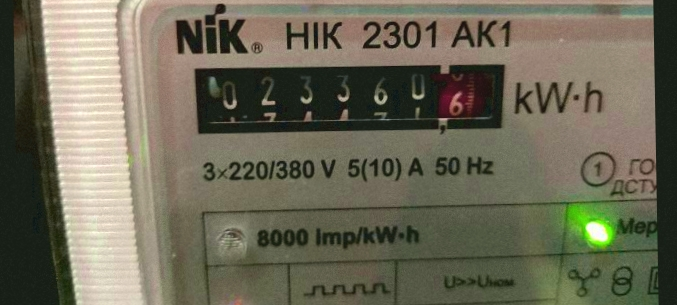0: (218, 76, 239, 110), (408, 69, 426, 100)
2: (256, 73, 279, 107)
3: (294, 72, 315, 104), (333, 70, 352, 102)
6: (369, 73, 389, 105), (444, 86, 465, 116)
screen: (175, 44, 519, 148)
